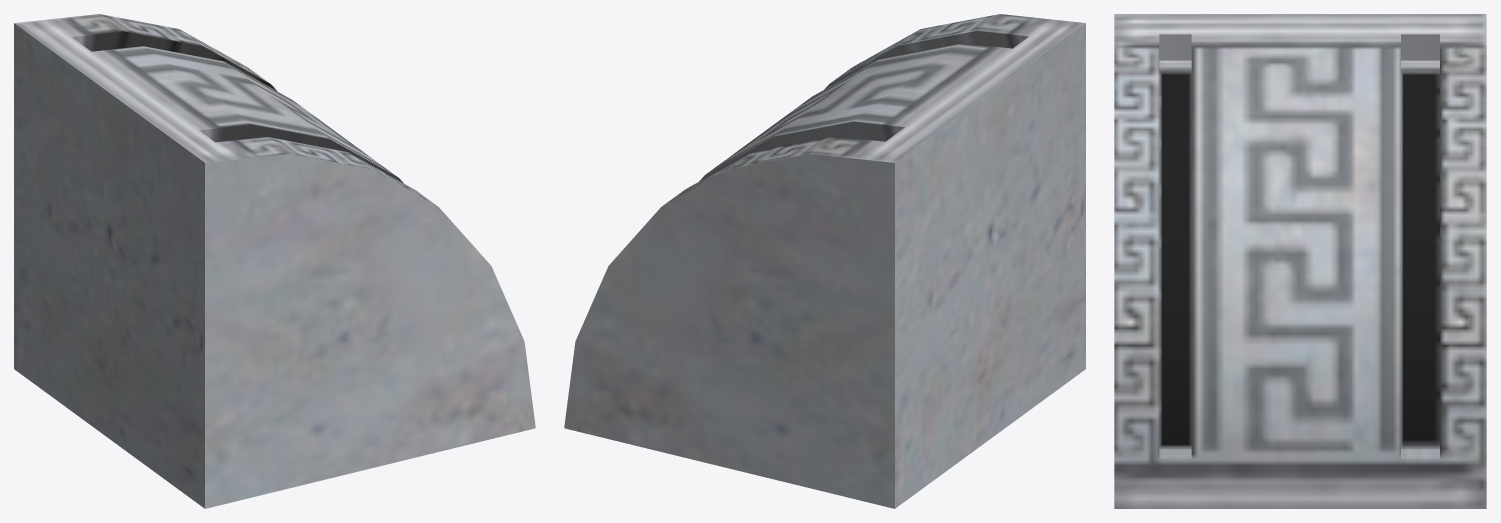
Rendered from Curve1_Set2.fbx.
3 views of the same model, side by side, from view 1: azimuth 30°, elevation 25°; view 2: azimuth 150°, elevation 25°; view 3: azimuth 270°, elevation 25° (orthographic). The views are drawn at different scales.
Parts seen in each view (by area): view 1: Curve1_Set2; view 2: Curve1_Set2; view 3: Curve1_Set2.
Boxes of the visible parts, x1,y1,x2,y2 form: Curve1_Set2: [14, 14, 535, 508]; Curve1_Set2: [564, 14, 1085, 508]; Curve1_Set2: [1114, 14, 1486, 508].
Size of the model in its own units: 1 by 1 by 1.
